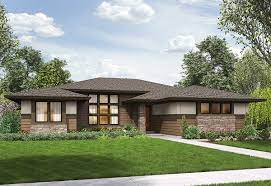Building House: (2, 72, 269, 142)
